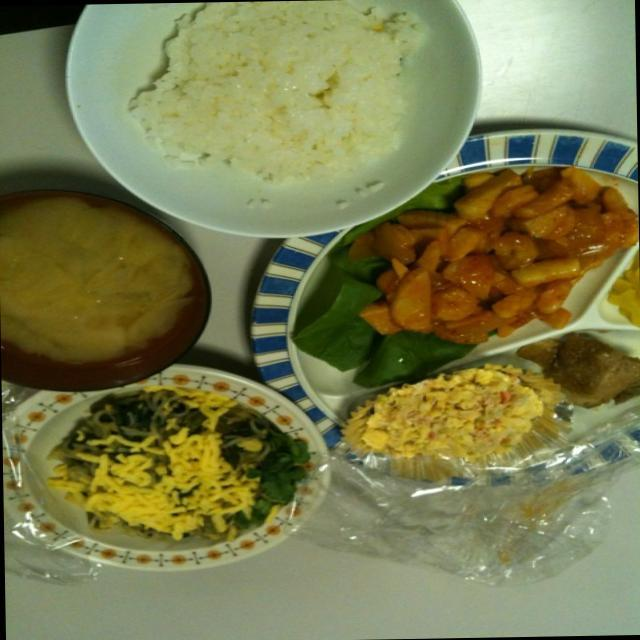Rice: (134, 0, 428, 190)
